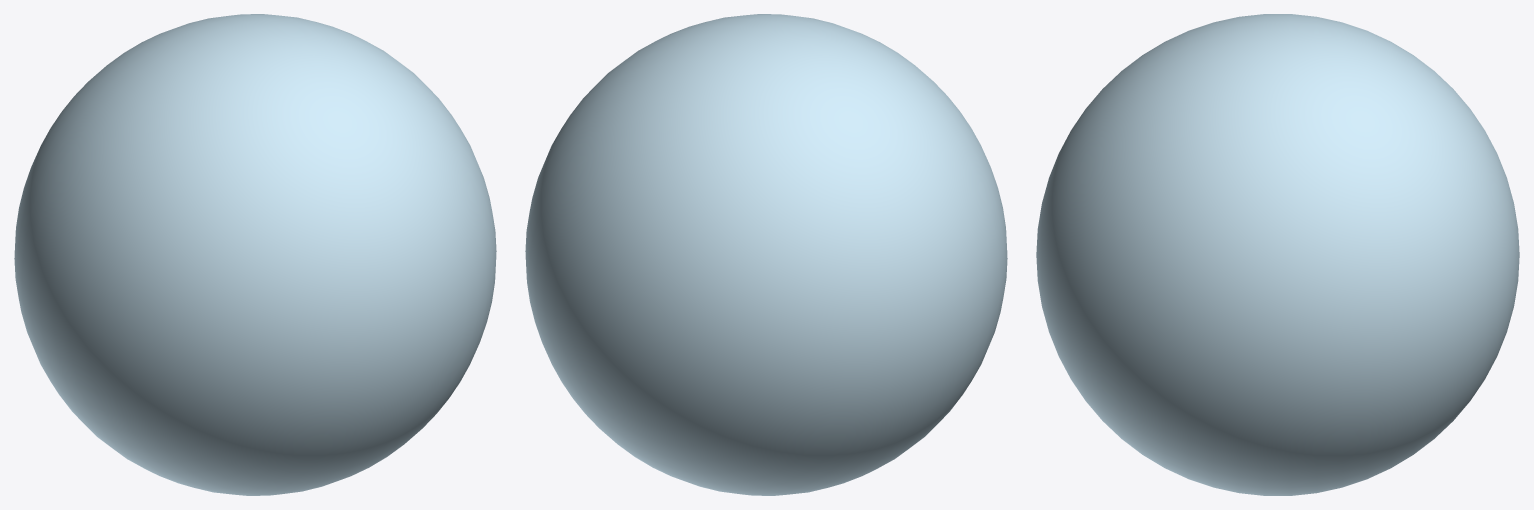
The model's file is ball.gltf.
3 views of the same model, side by side, from view 1: azimuth 30°, elevation 25°; view 2: azimuth 150°, elevation 25°; view 3: azimuth 270°, elevation 25° (orthographic).
Visible parts, largest first — view 1: mesh23; view 2: mesh23; view 3: mesh23.
Part boxes in pixels (bbox=[...]): mesh23: bbox=[14, 14, 496, 495]; mesh23: bbox=[525, 14, 1007, 495]; mesh23: bbox=[1036, 14, 1519, 495].
Bounding box in the file's own units: 0.0265 × 0.0264 × 0.0265.
